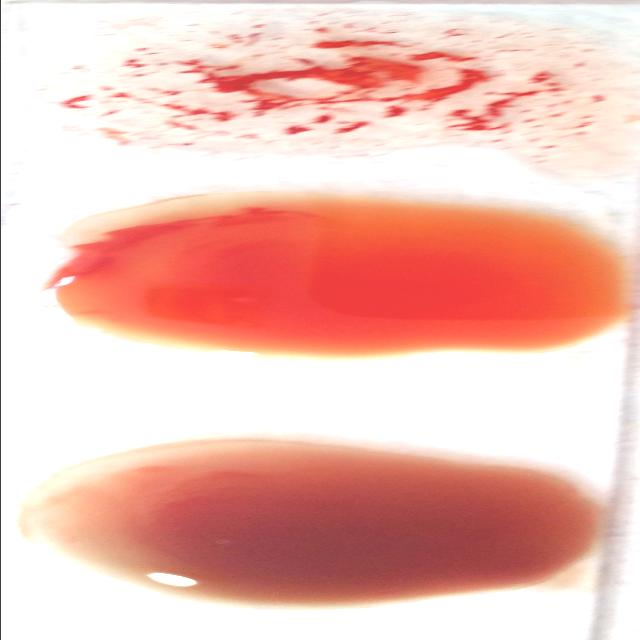D: (44, 18, 604, 154)
